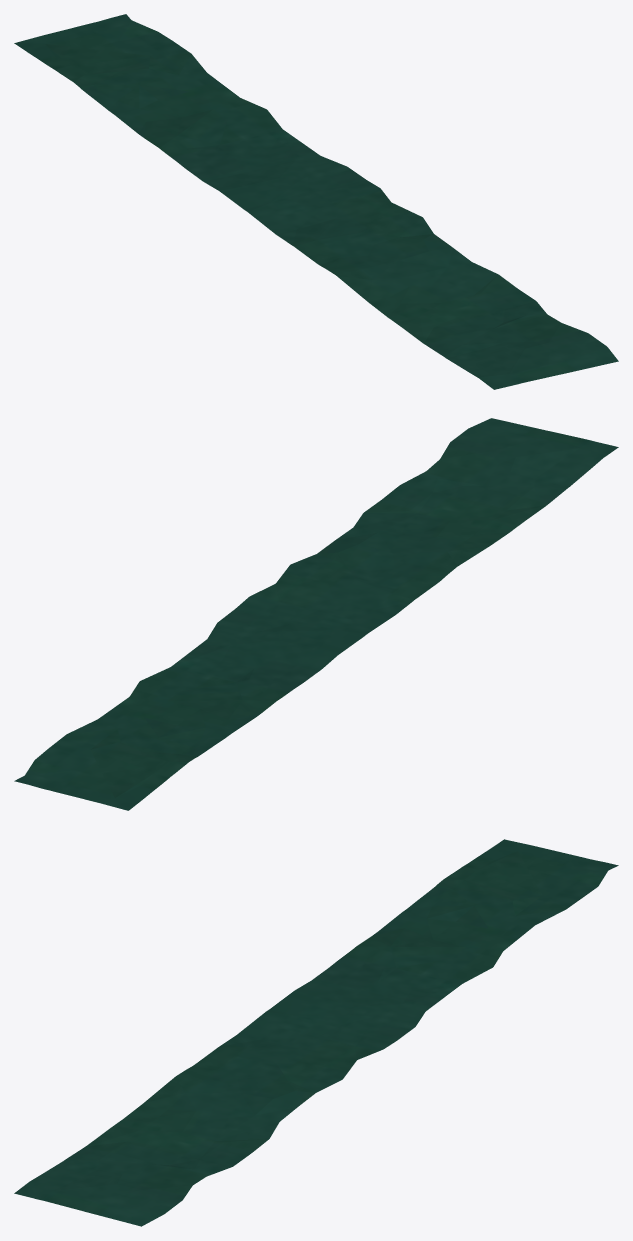
3 views of the same model, one above another, from view 1: azimuth 30°, elevation 25°; view 2: azimuth 150°, elevation 25°; view 3: azimuth 330°, elevation 25° (orthographic). The views are drawn at different scales.
Size of the model in its own units: 16.37 by 0.9143 by 104.
Materials: 1 (1 with a texture image).
